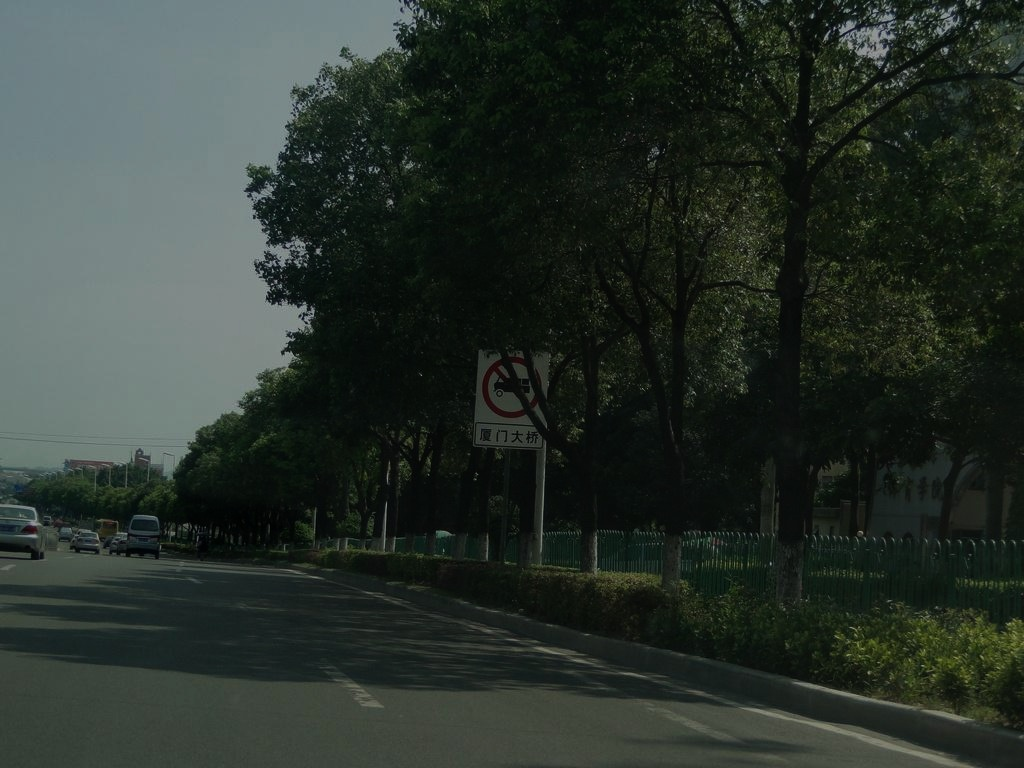Prohibitory Signs: (481, 355, 544, 421)
